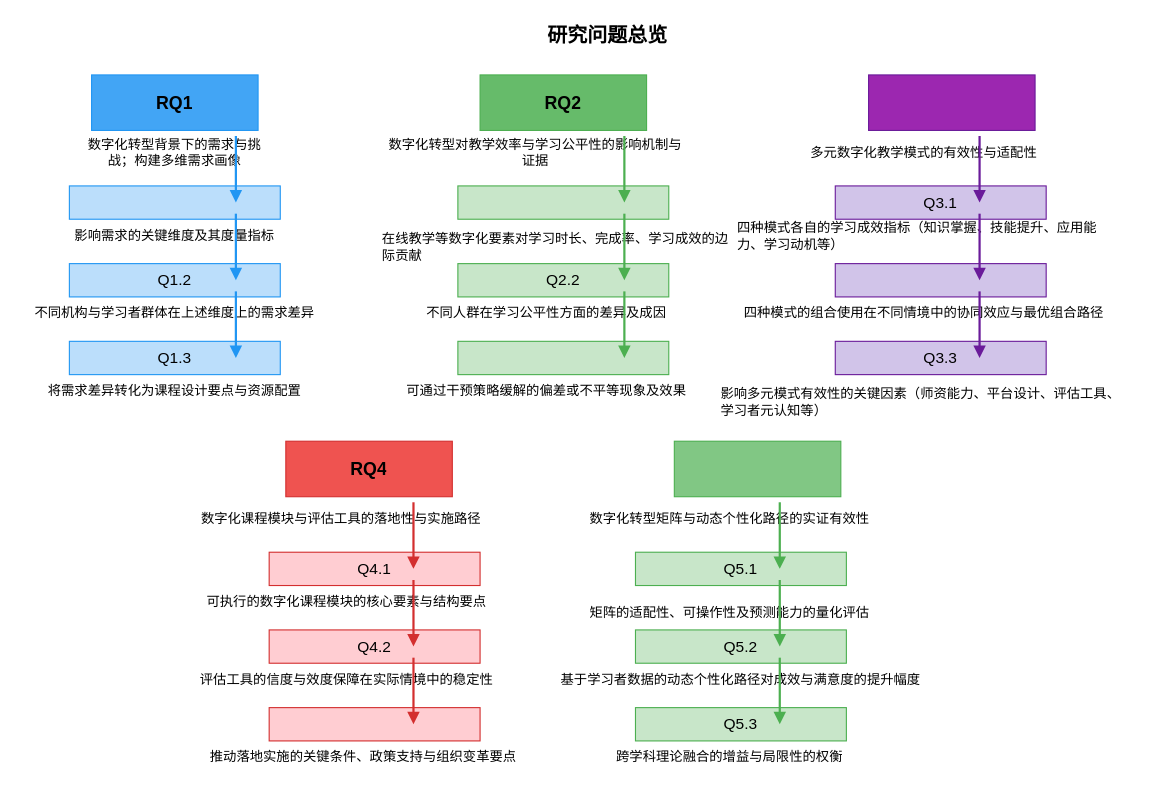
Some shapes in this 1170 by 793 pixel diagram are drawn without their labels. Each missing label, with the centre of its shape:
"Q1.1" goes at (174,202).
"Q2.1" goes at (563,202).
"Q2.3" goes at (563,357).
"Q3.2" goes at (940,280).
"Q4.3" goes at (374,724).
"RQ3" goes at (951,102).
"RQ5" goes at (757,468).
